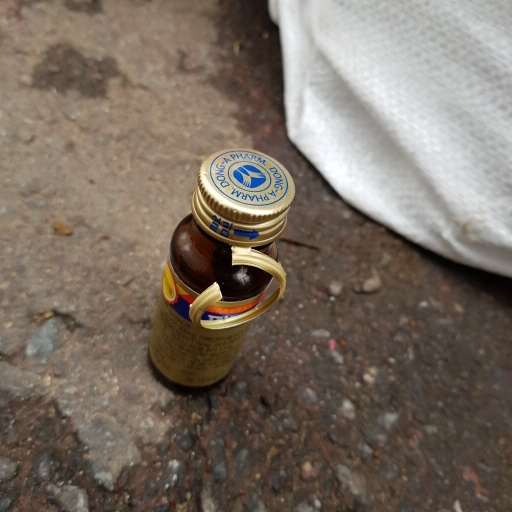Glass_3: (143, 146, 300, 402)
